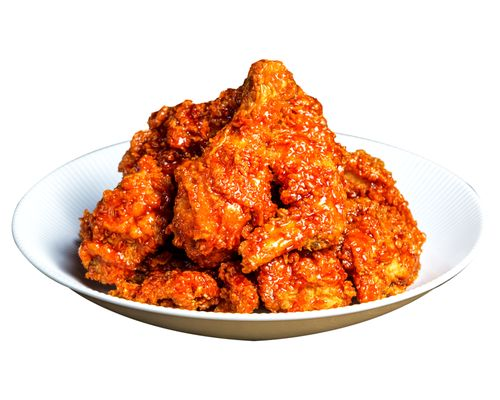sushi: (12, 53, 485, 342)
